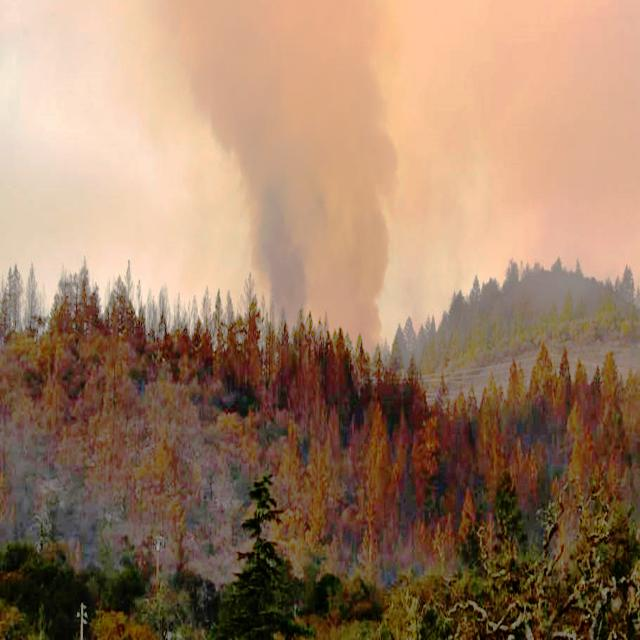asap: (155, 4, 422, 336)
